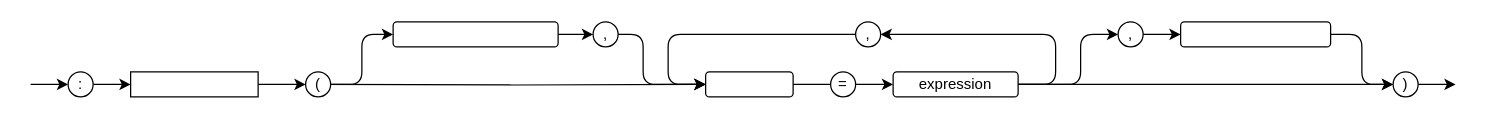
Some shapes in this 1488 by 119 pixel diagram are drawn without their labels. The box of each missing label's shape, as (x1, y1, x2, y2) in pixels:
attribute expression: (392, 21, 558, 47)
default expression: (1179, 21, 1331, 47)
partition: (129, 71, 258, 97)
threshold: (704, 71, 793, 97)
